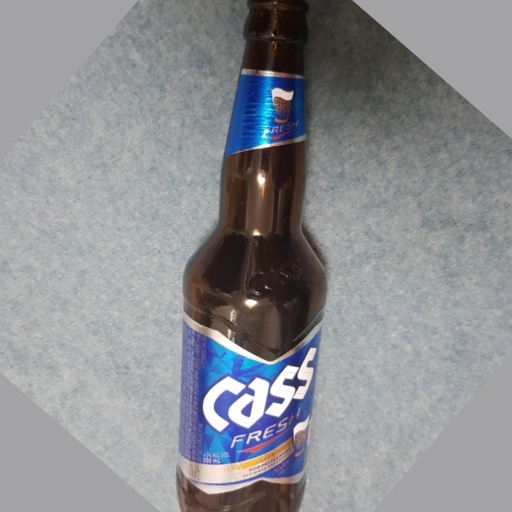Glass_1: (176, 3, 328, 512)
